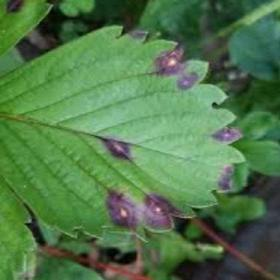Leaf Spot: (0, 25, 249, 243)
